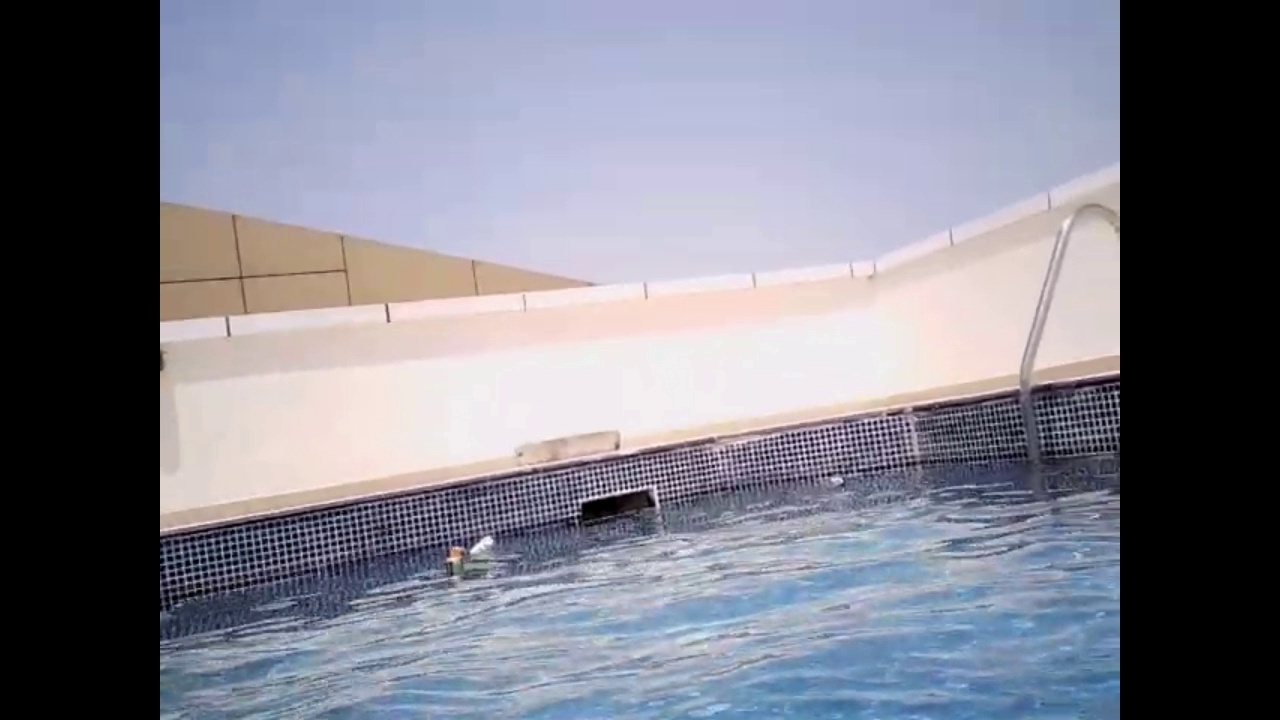debris: (466, 530, 497, 560), (442, 555, 465, 583), (446, 543, 467, 566), (824, 474, 845, 488)
